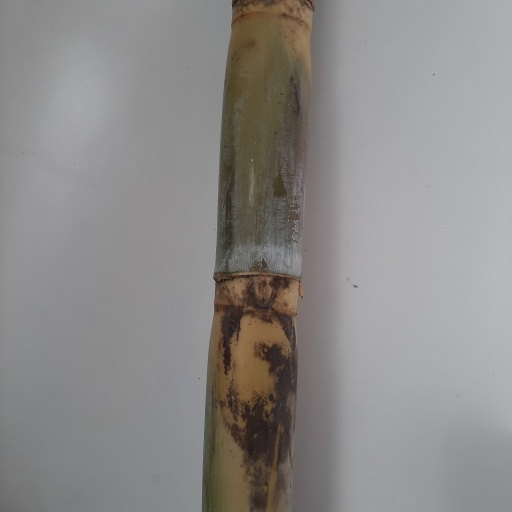Bud: (246, 276, 277, 309)
